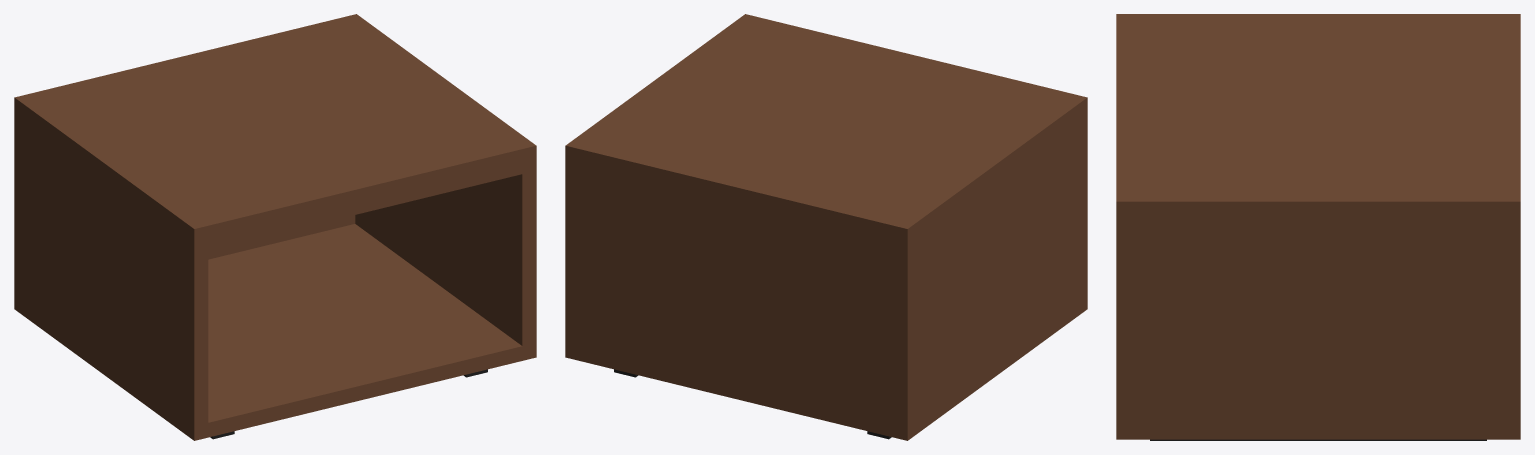
The model's file is Drawer_Mini_1_Base.obj.
The picture shows the model from 3 angles, left to right: view 1: azimuth 30°, elevation 25°; view 2: azimuth 150°, elevation 25°; view 3: azimuth 270°, elevation 25°; orthographic projection. The views are drawn at different scales.
Parts seen in each view (by area): view 1: Drawer_Mini_1_Base; view 2: Drawer_Mini_1_Base; view 3: Drawer_Mini_1_Base.
Boxes of the visible parts, x1,y1,x2,y2 form: Drawer_Mini_1_Base: (14,14,536,440); Drawer_Mini_1_Base: (565,14,1087,440); Drawer_Mini_1_Base: (1116,14,1520,440).
Bounding box in the file's own units: 0.5311 × 0.3402 × 0.4837.
